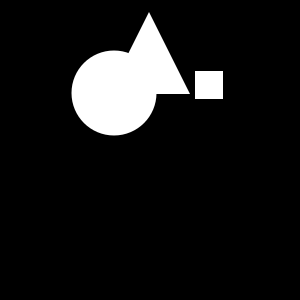circle: (195, 71, 223, 99)
rectangle: (72, 50, 157, 136)
triangle: (108, 12, 190, 94)
